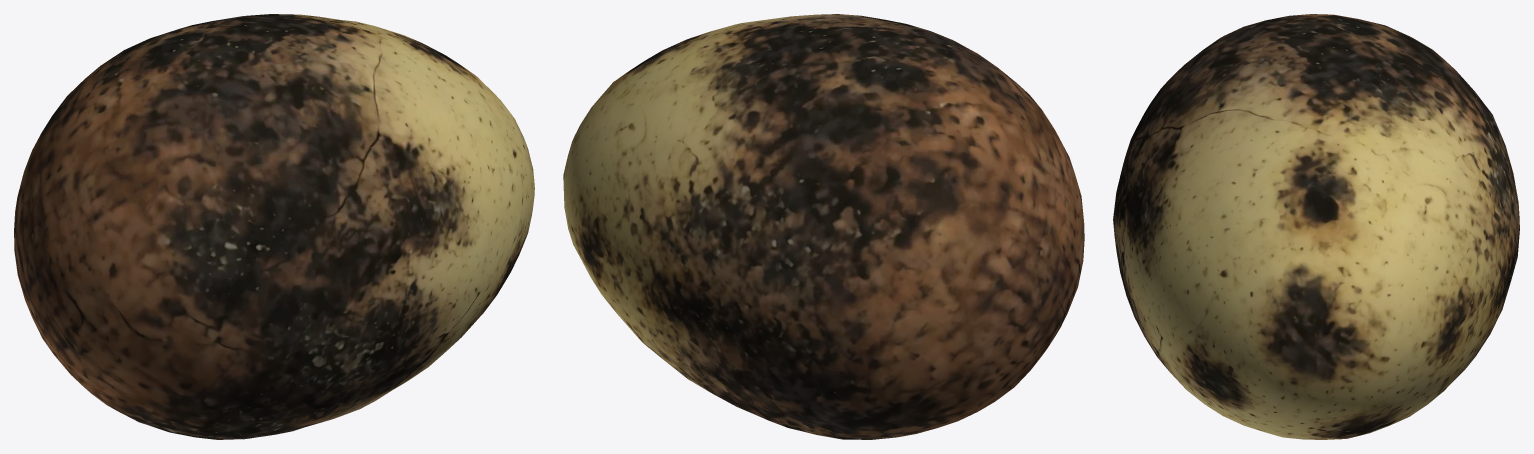
File: cooked_egg.glb
The picture shows the model from 3 angles, left to right: view 1: azimuth 30°, elevation 25°; view 2: azimuth 150°, elevation 25°; view 3: azimuth 270°, elevation 25°; orthographic projection. The views are drawn at different scales.
Visible parts, largest first — view 1: geometry_0; view 2: geometry_0; view 3: geometry_0.
Boxes of the visible parts, x1,y1,x2,y2 form: geometry_0: [14, 14, 534, 439]; geometry_0: [563, 14, 1084, 439]; geometry_0: [1113, 14, 1519, 439].
Bounding box in the file's own units: 0.17 × 0.1292 × 0.1302.
Materials: 1 (1 with a texture image).
